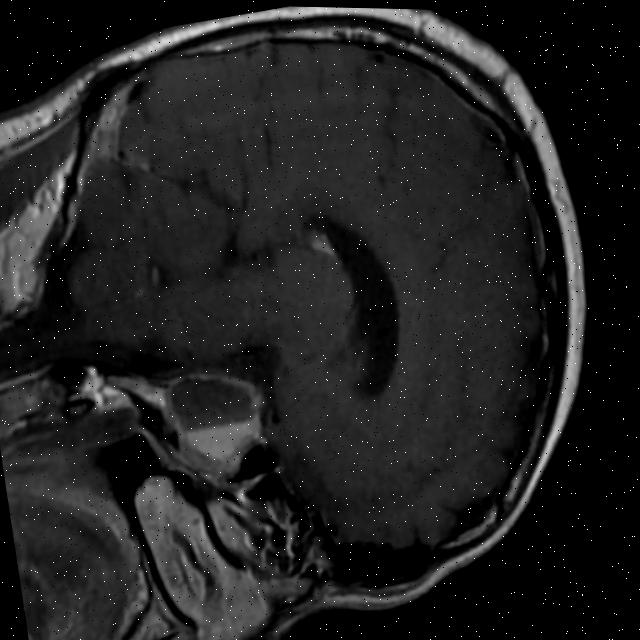Pituitary: (167, 364, 268, 466)
